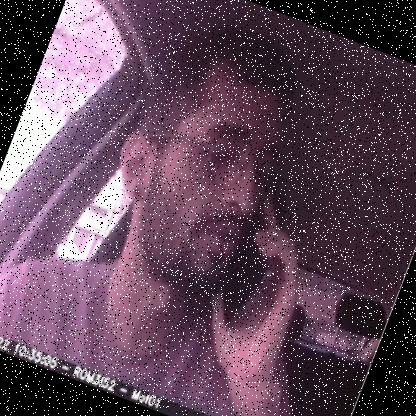phone: (202, 176, 307, 348)
